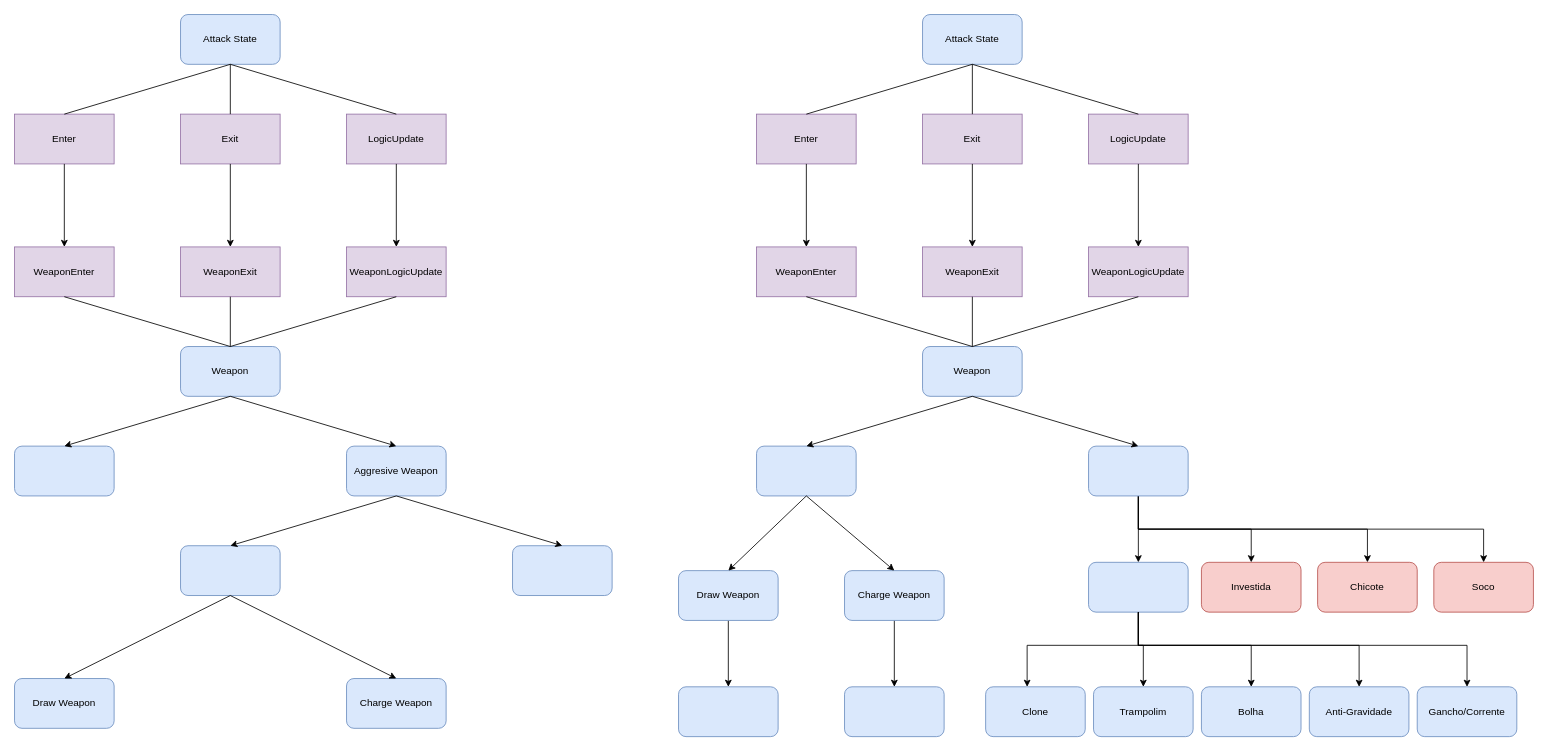
This 1548x751 diagram has some shape labels left out. The shapes that lost their labels are listed below. From the top down, each one's centre as x and y in pixels, then its label:
At point 64,470: "Defensive Weapon".
At point 806,470: "HoldWeapon".
At point 1138,470: "ClickWeapon".
At point 230,570: "Hold Weapon".
At point 562,570: "Click Weapon".
At point 1138,586: "Tiros de Gosma".
At point 728,711: "Lança Chamas".
At point 894,711: "Explosão".
